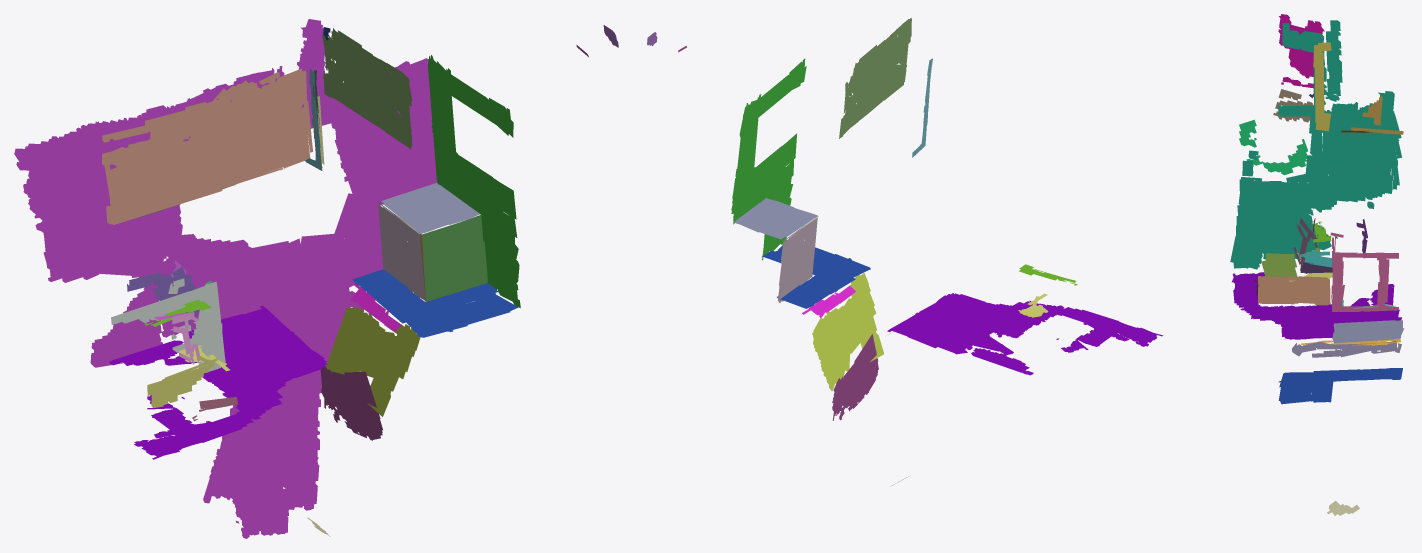
The model's file is scene0356_00_simple.glb.
3 renders of one model, left to right at view 1: azimuth 30°, elevation 25°; view 2: azimuth 150°, elevation 25°; view 3: azimuth 270°, elevation 25°, orthographic. The views are drawn at different scales.
Bounding box in the file's own units: 5.88 × 5.02 × 1.89.
